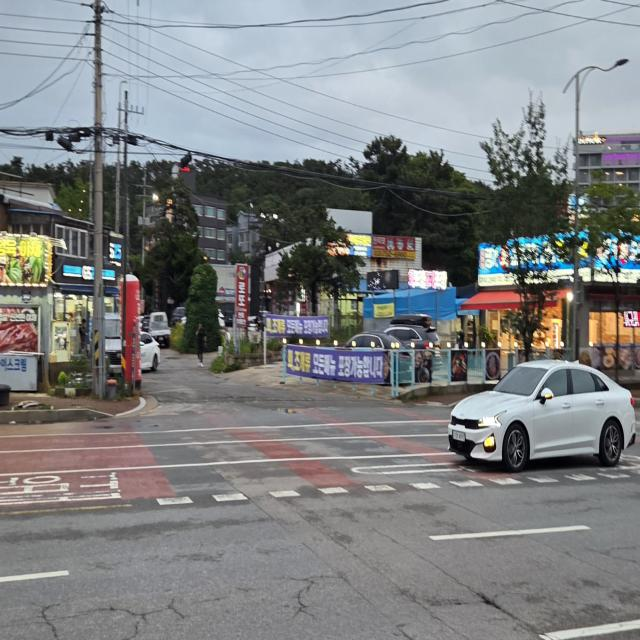car: (434, 339, 640, 500)
